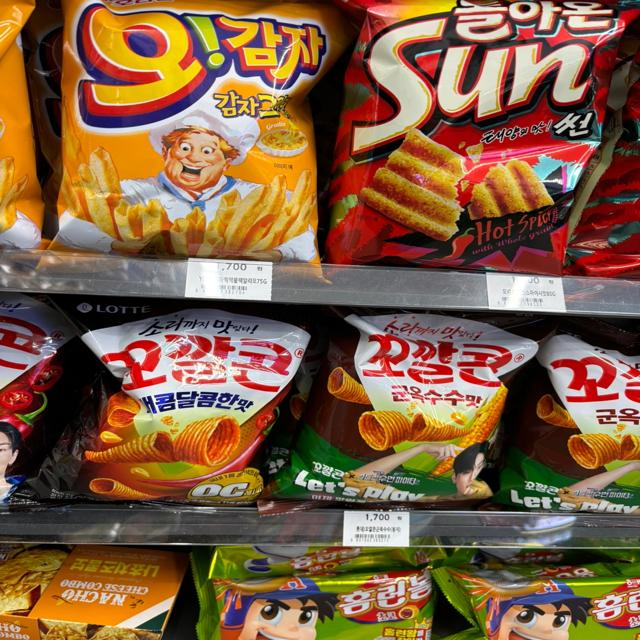product: (345, 1, 627, 272), (71, 1, 332, 266), (317, 301, 526, 515), (82, 301, 297, 504), (542, 332, 640, 495), (9, 549, 172, 636), (213, 578, 437, 640), (2, 305, 59, 499), (468, 576, 640, 634)
